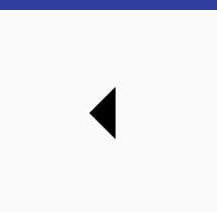ImgButton: (1, 1, 216, 211)
